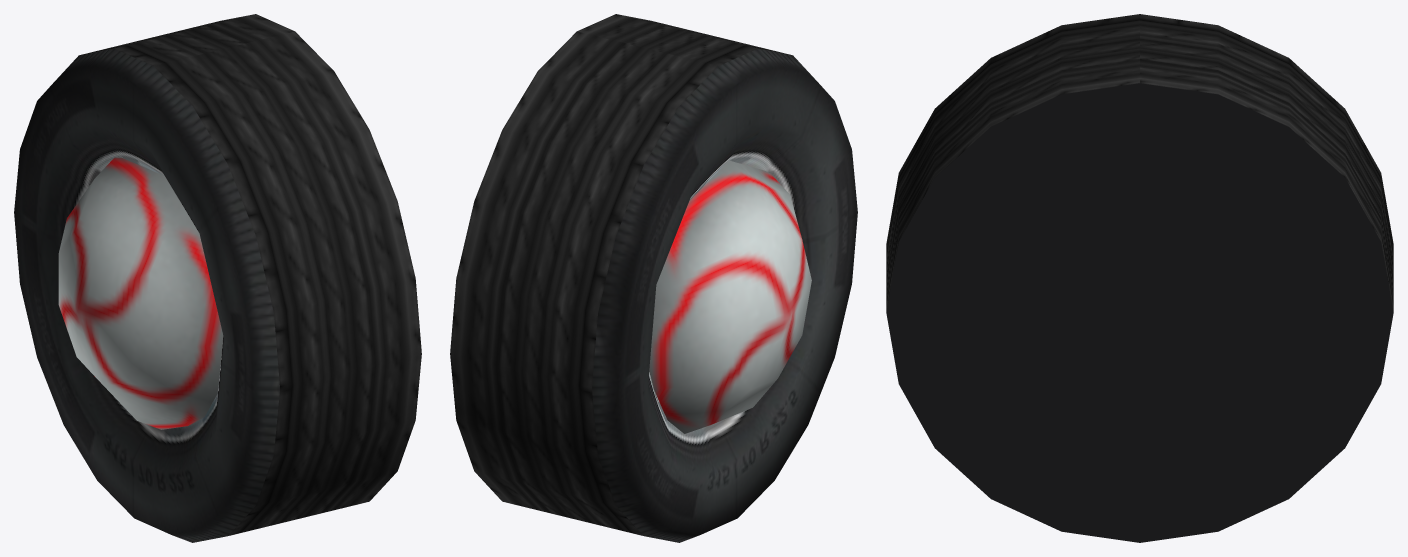
The model's file is wheel_swagger.FBX.
The picture shows the model from 3 angles, left to right: view 1: azimuth 30°, elevation 25°; view 2: azimuth 150°, elevation 25°; view 3: azimuth 270°, elevation 25°; orthographic projection.
Parts seen in each view (by area): view 1: wheel_wanderer; view 2: wheel_wanderer; view 3: wheel_wanderer.
Part boxes in pixels (bbox=[...]): wheel_wanderer: bbox=[14, 14, 421, 542]; wheel_wanderer: bbox=[450, 14, 857, 542]; wheel_wanderer: bbox=[886, 14, 1393, 542].
Size of the model in its own units: 0.0542 by 0.1105 by 0.1105.
